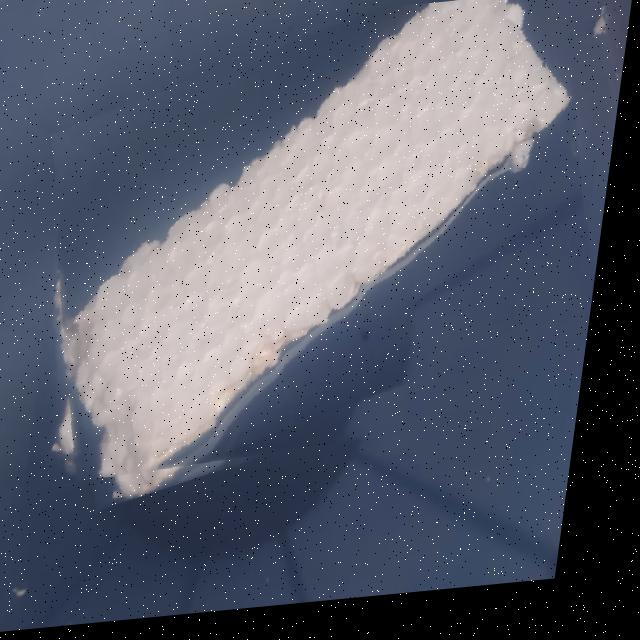litter: (38, 0, 630, 493)
